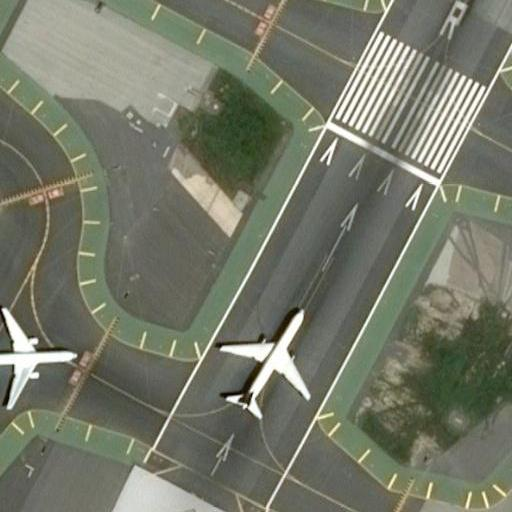Aircraft: (218, 299, 313, 423), (0, 299, 76, 411)
